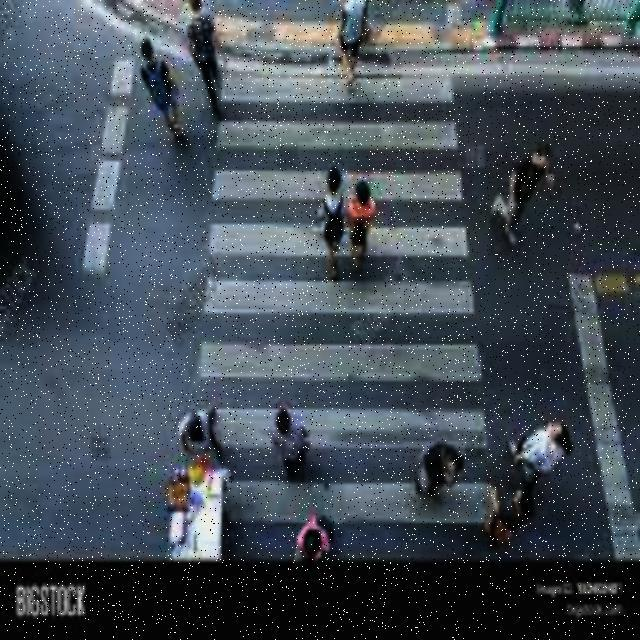crosswalk: (186, 30, 520, 599)
